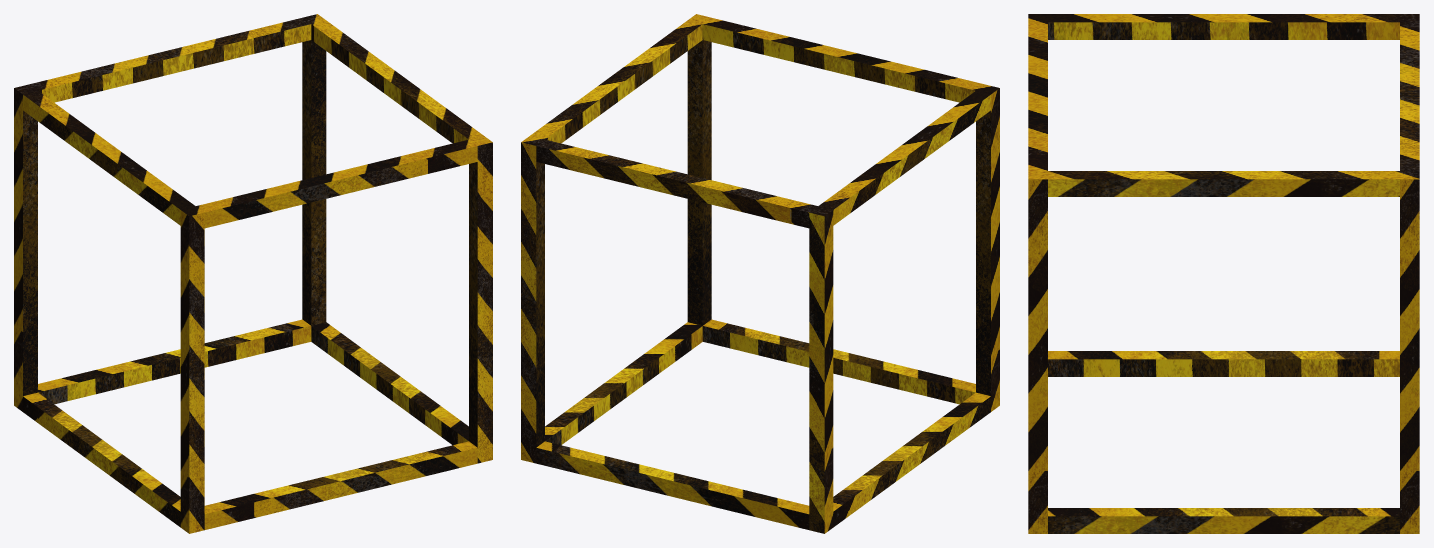
The model's file is cageV2.fbx.
3 views of the same model, side by side, from view 1: azimuth 30°, elevation 25°; view 2: azimuth 150°, elevation 25°; view 3: azimuth 270°, elevation 25° (orthographic). The views are drawn at different scales.
Visible parts, largest first — view 1: Cage2V; view 2: Cage2V; view 3: Cage2V.
Boxes of the visible parts, x1,y1,x2,y2 form: Cage2V: (14, 14, 492, 533); Cage2V: (521, 14, 999, 533); Cage2V: (1028, 14, 1419, 533).
Bounding box in the file's own units: 200 × 200 × 200.
